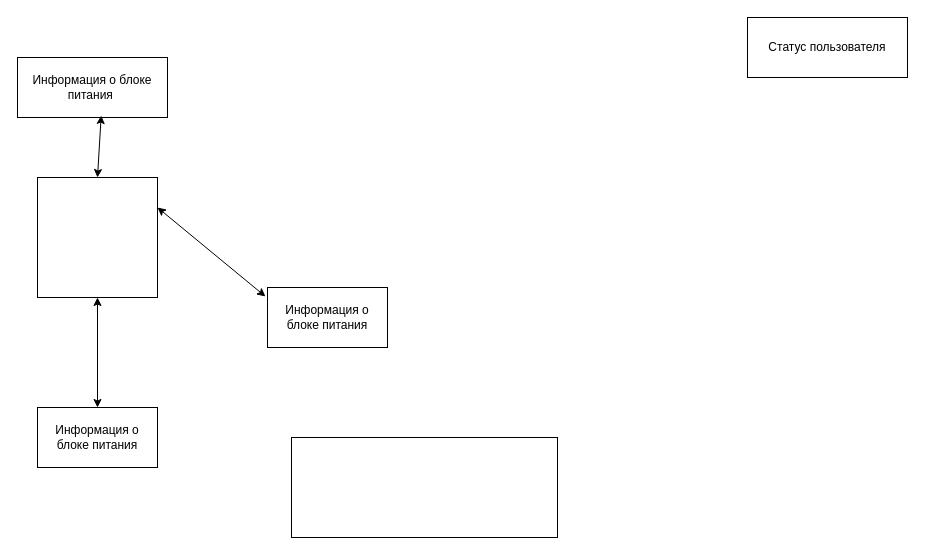
Some shapes in this 925 by 555 pixel diagram are drawn without their labels. Here are the shapes that lost their labels. From the top down, the centre of each, then its label:
At (97,237): "Фото блока питания".
At (424,487): "Как впроцессора взаимодействует с другими комплекутющими".
